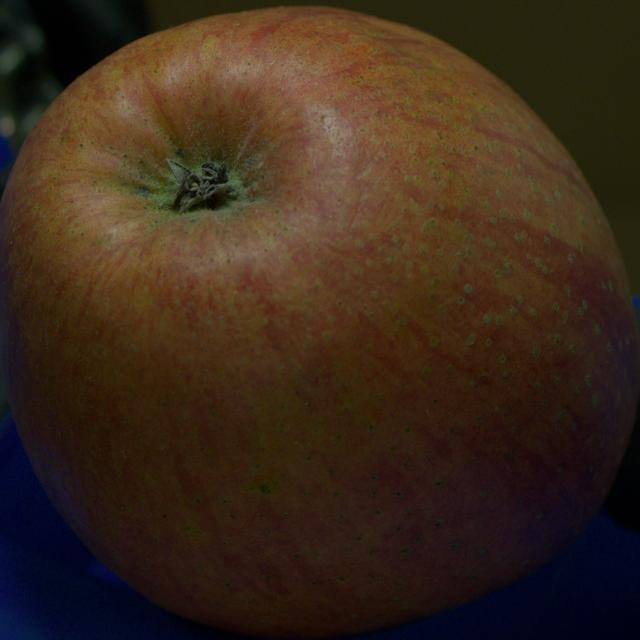apple: (0, 8, 639, 636)
